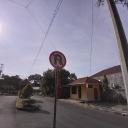NoVirarU: (48, 50, 67, 71)
